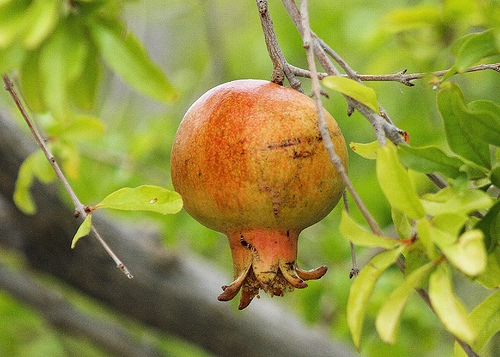pomogranate: (168, 76, 352, 310)
